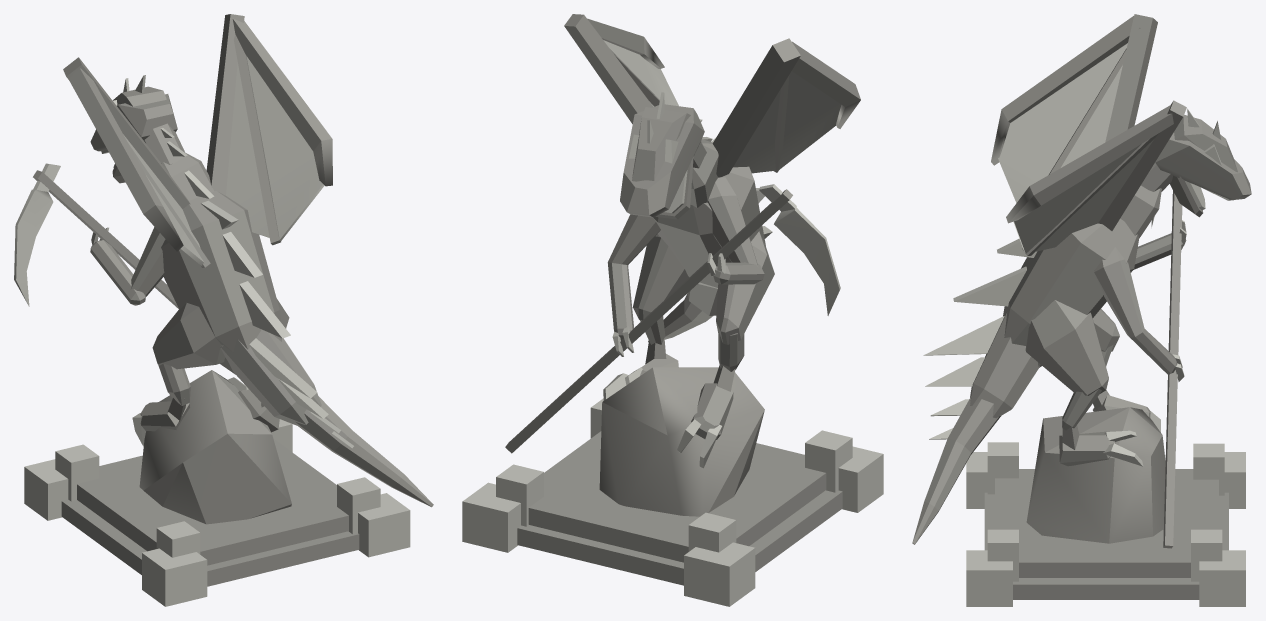
Rendered from statue_sam.fbx.
3 views of the same model, side by side, from view 1: azimuth 30°, elevation 25°; view 2: azimuth 150°, elevation 25°; view 3: azimuth 270°, elevation 25° (orthographic). The views are drawn at different scales.
Parts seen in each view (by area): view 1: polySurface398; view 2: polySurface398; view 3: polySurface398.
Boxes of the visible parts, x1=… form: polySurface398: x1=14, y1=14, x2=433, y2=606; polySurface398: x1=462, y1=14, x2=883, y2=606; polySurface398: x1=912, y1=14, x2=1251, y2=606.
Bounding box in the file's own units: 24.11 × 36.8 × 23.83.
1 material, 1 textured.
